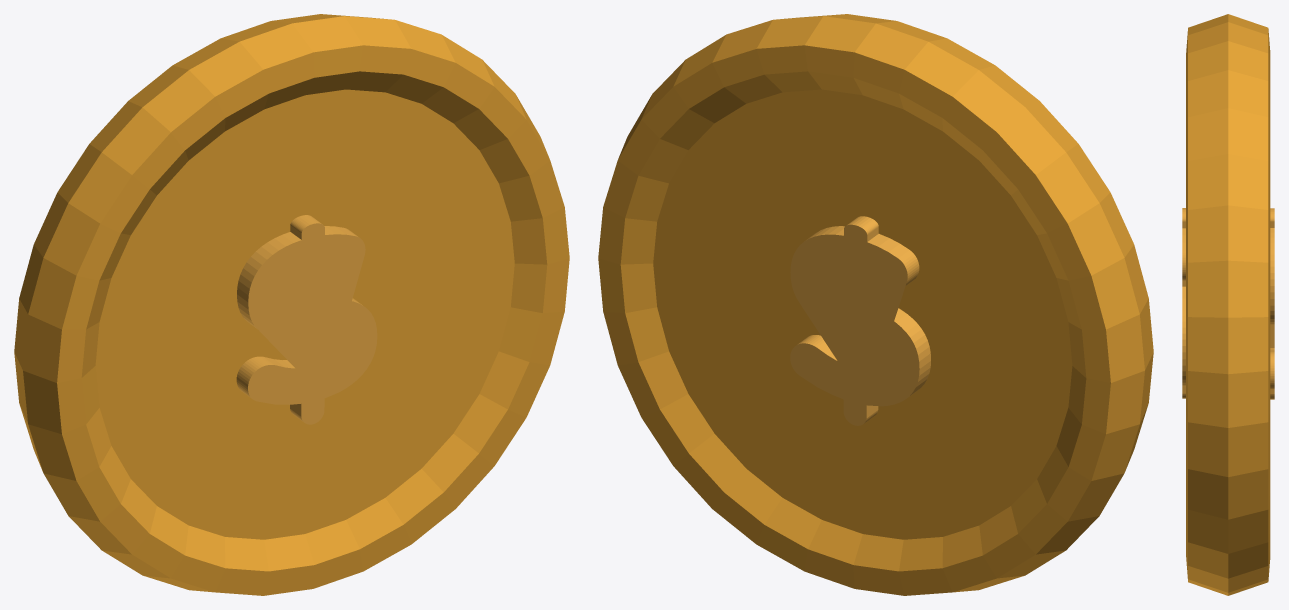
Rendered from coindolar (1).fbx.
3 renders of one model, left to right at view 1: azimuth 30°, elevation 25°; view 2: azimuth 150°, elevation 25°; view 3: azimuth 270°, elevation 25°, orthographic. The views are drawn at different scales.
Visible parts, largest first — view 1: coin2; view 2: coin2; view 3: coin2.
Part boxes in pixels (box(x1,y1,x2,y2)): coin2: box(14, 14, 569, 595); coin2: box(598, 14, 1153, 595); coin2: box(1182, 14, 1274, 595).
Bounding box in the file's own units: 200 × 200 × 31.78.
